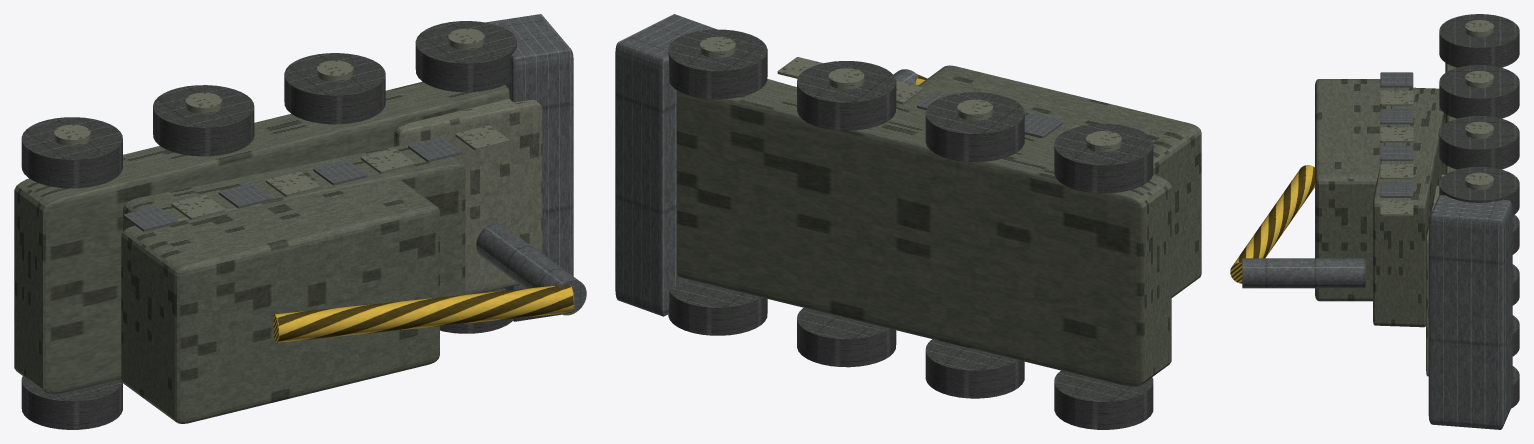
The model's file is v-u18-vanguard-recovery-vehicle-lod0.glb.
The picture shows the model from 3 angles, left to right: view 1: azimuth 30°, elevation 25°; view 2: azimuth 150°, elevation 25°; view 3: azimuth 270°, elevation 25°; orthographic projection. The views are drawn at different scales.
Parts seen in each view (by area): view 1: recovery_superstructure, chassis_lower, chassis_nose, dozer_blade, upper_hull, service_boom, chassis_wheel_1_2, chassis_wheel_1_1, chassis_wheel_1_0, chassis_wheel_1_3, chassis_wheel_-1_0, winch (+13 smaller); view 2: chassis_lower, dozer_blade, recovery_superstructure, chassis_wheel_1_0, chassis_wheel_1_1, chassis_wheel_1_2, chassis_wheel_1_3, chassis_wheel_-1_0, chassis_wheel_-1_1, chassis_wheel_-1_2, chassis_wheel_-1_3, upper_hull (+5 smaller); view 3: dozer_blade, recovery_superstructure, upper_hull, winch, chassis_wheel_1_0, chassis_wheel_1_2, chassis_wheel_1_1, service_boom, chassis_wheel_1_3, chassis_nose, service_hatch_1, service_hatch_0 (+14 smaller).
Part boxes in pixels (x1,y1,x2,y2): recovery_superstructure: (121,178,439,423); chassis_lower: (14,82,509,393); chassis_nose: (394,98,542,294); dozer_blade: (485,14,573,321); upper_hull: (123,140,465,327); service_boom: (273,285,574,342); chassis_wheel_1_2: (284,53,385,124); chassis_wheel_1_1: (153,85,254,156); chassis_wheel_1_0: (21,117,122,188); chassis_wheel_1_3: (415,21,516,92); chassis_wheel_-1_0: (21,376,122,429); winch: (476,223,586,315); chassis_lower: (677,80,1171,386); dozer_blade: (615,14,717,316); recovery_superstructure: (918,65,1201,297); chassis_wheel_1_0: (1054,123,1153,193); chassis_wheel_1_1: (925,92,1024,161); chassis_wheel_1_2: (797,61,896,130); chassis_wheel_1_3: (668,29,767,99); chassis_wheel_-1_0: (1054,370,1153,429); chassis_wheel_-1_1: (925,339,1024,398); chassis_wheel_-1_2: (797,308,896,367); chassis_wheel_-1_3: (668,280,767,335); upper_hull: (896,93,1059,149); dozer_blade: (1428,195,1512,429); recovery_superstructure: (1315,79,1395,301); upper_hull: (1373,87,1445,327); winch: (1242,258,1365,288); chassis_wheel_1_0: (1439,14,1519,67); chassis_wheel_1_2: (1439,115,1519,169); chassis_wheel_1_1: (1439,65,1519,118); service_boom: (1230,165,1314,283); chassis_wheel_1_3: (1439,166,1519,215); chassis_nose: (1426,185,1439,376); service_hatch_1: (1380,90,1413,105); service_hatch_0: (1380,72,1413,87).
Size of what is drawn, in the model's own units: 7.52 by 3.8 by 4.45.
7 materials, 7 textured.
